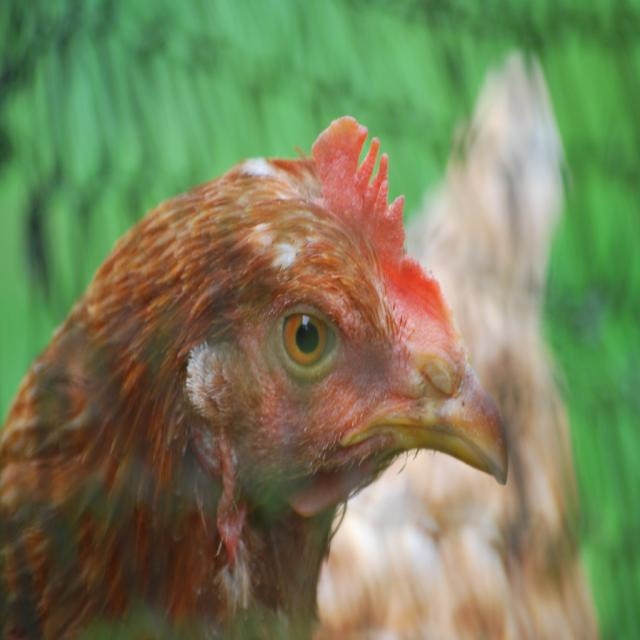Chicken: (0, 106, 509, 640)
